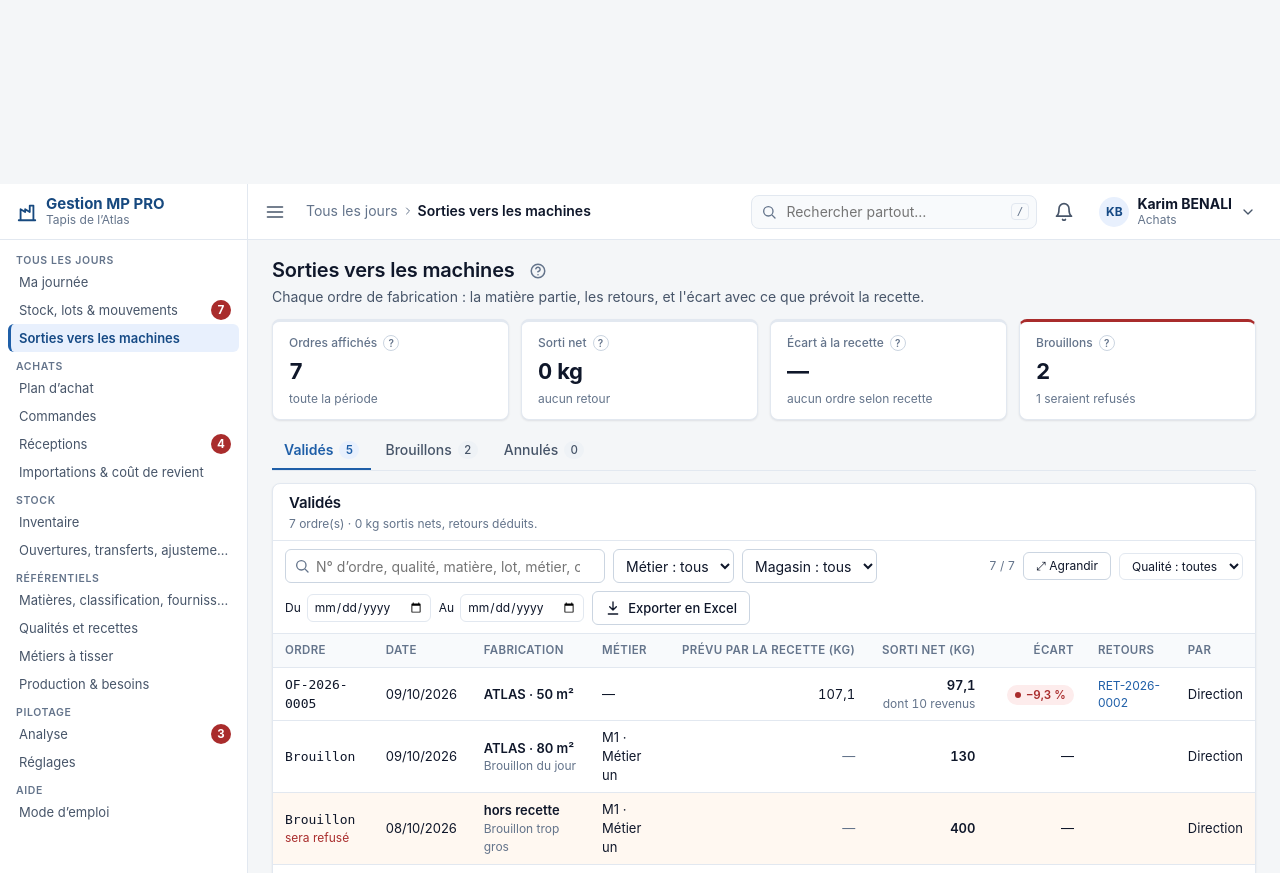
Test: Sorties vers les machines › la liste par onglet : validés numérotés, brouillons « Brouillon » et « À sortir »
(page scrolled)
Expected: the text "OF-2026-0005" is shown, [285, 677, 348, 711]
Click the tab "Brouillons 2": [432, 451] box [374, 432, 490, 470]
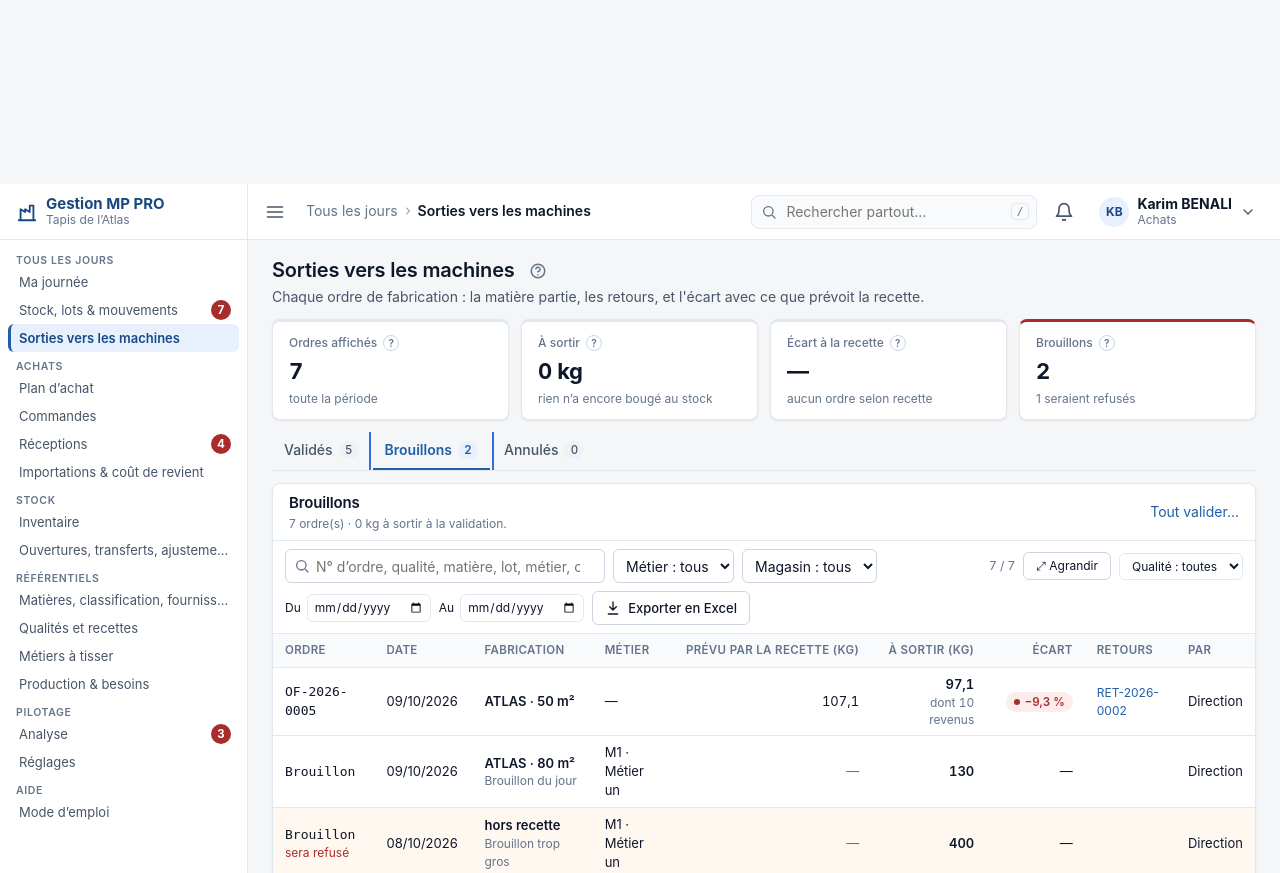
Expected: the text "sera refusé" is shown, [285, 844, 356, 862]
Now the column heading "À sortir (kg)" is shown, box [871, 634, 986, 668]
